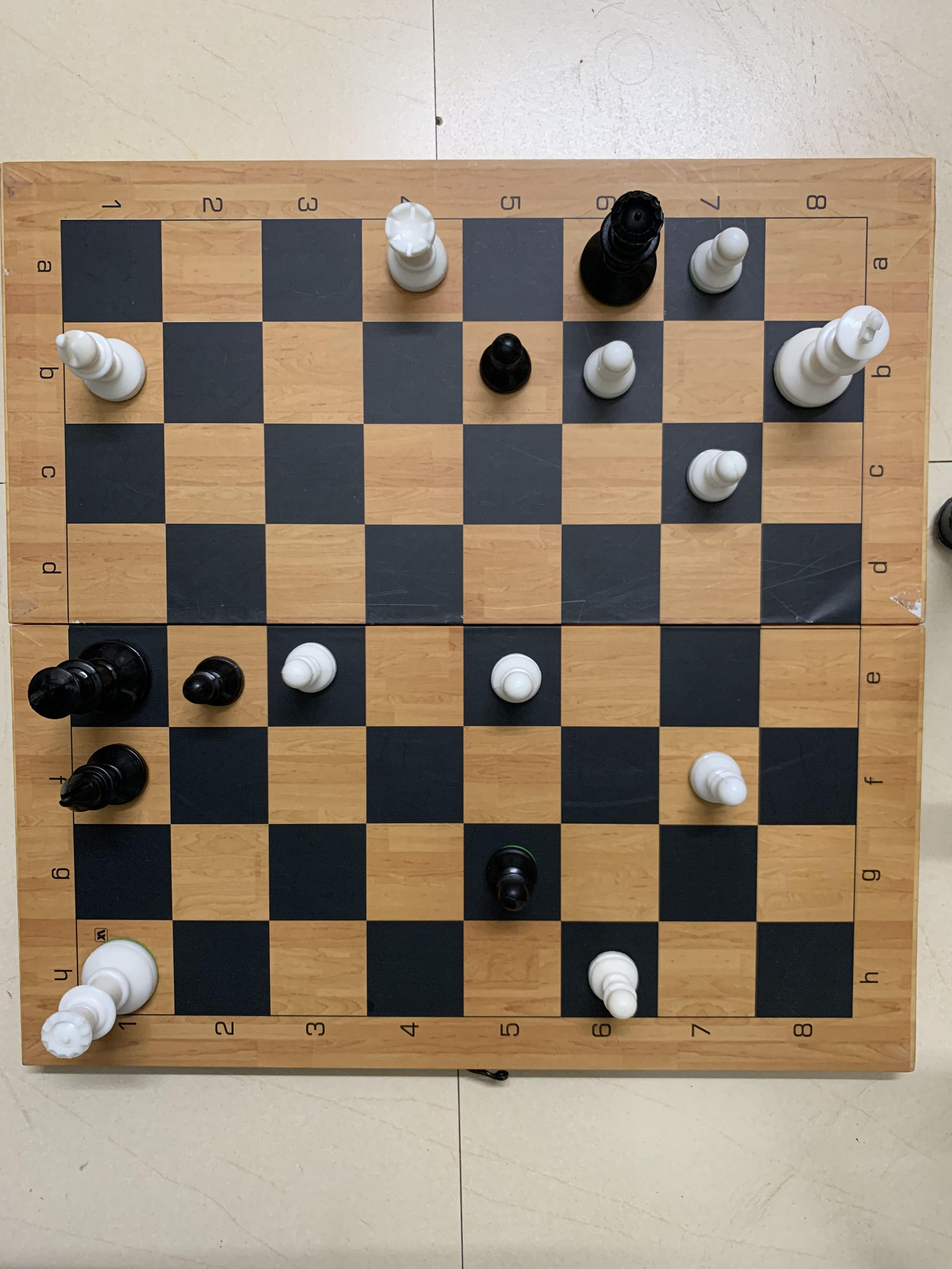black_bishop: (30, 741, 170, 833)
black_king: (24, 631, 162, 738)
black_pawn: (773, 315, 926, 417), (469, 829, 566, 921), (167, 631, 256, 725), (475, 327, 558, 416)
black_queen: (576, 167, 674, 311)
white_bishop: (46, 321, 156, 421)
white_pawn: (264, 622, 365, 734), (570, 914, 659, 1036), (666, 725, 767, 826), (660, 428, 764, 524), (677, 216, 770, 319), (466, 633, 559, 729), (571, 330, 660, 413)
white_queen: (42, 922, 162, 1072)
white_rook: (365, 197, 465, 311)
